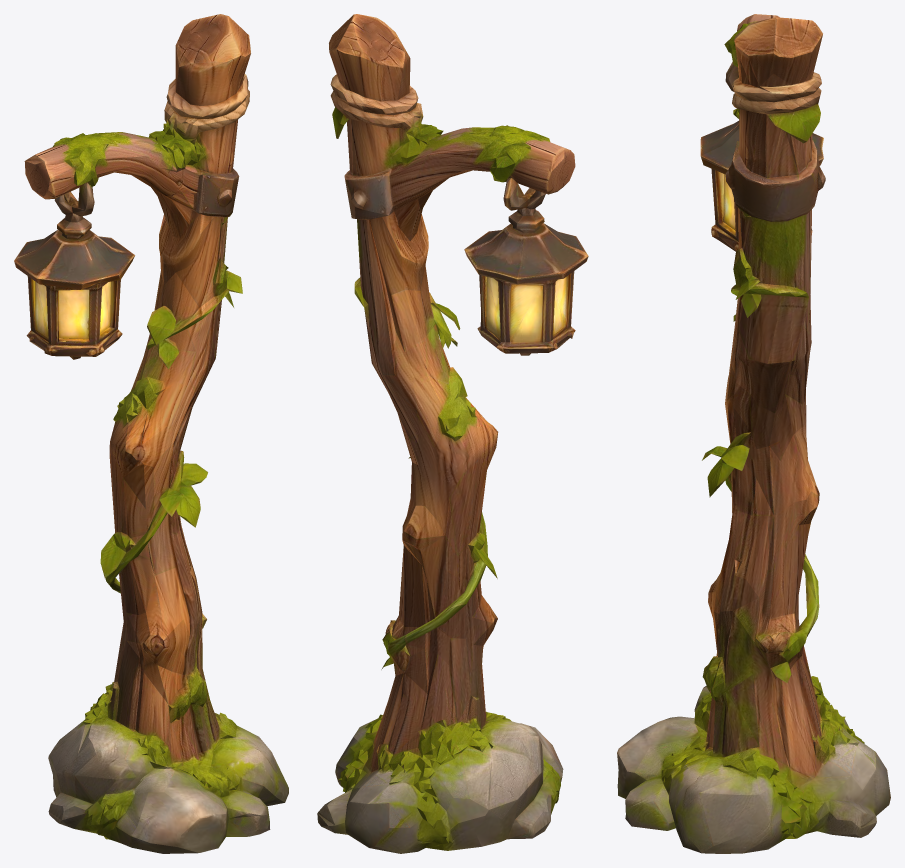
The model's file is INT-002.glb.
3 renders of one model, left to right at view 1: azimuth 30°, elevation 25°; view 2: azimuth 150°, elevation 25°; view 3: azimuth 270°, elevation 25°, orthographic. The views are drawn at different scales.
Parts seen in each view (by area): view 1: INT-002; view 2: INT-002; view 3: INT-002.
Part boxes in pixels (box(x1,y1,x2,y2)): INT-002: box(14, 14, 288, 853); INT-002: box(317, 14, 588, 853); INT-002: box(617, 14, 890, 853).
Size of the model in its own units: 0.622 by 1.9 by 0.574.
Materials: 1 (1 with a texture image).
